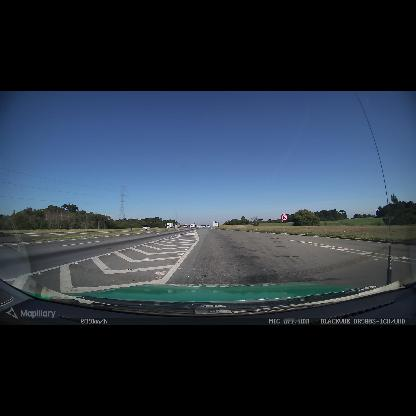R-6c: (281, 213, 288, 221)
